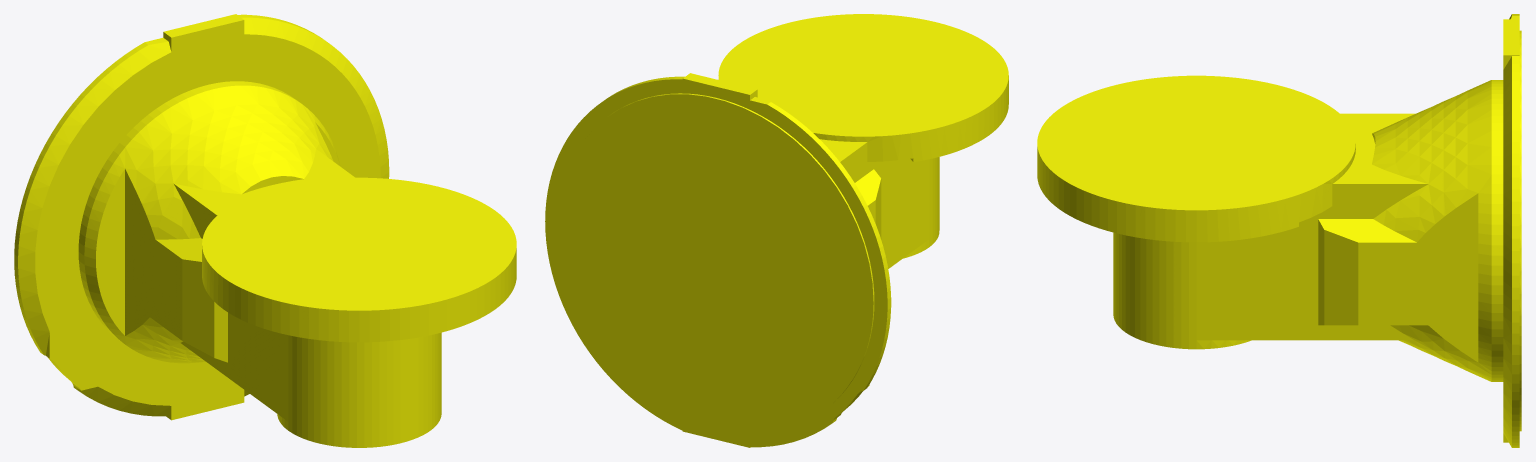
3 renders of one model, left to right at view 1: azimuth 30°, elevation 25°; view 2: azimuth 150°, elevation 25°; view 3: azimuth 270°, elevation 25°, orthographic. The views are drawn at different scales.
Visible parts, largest first — view 1: node; view 2: node; view 3: node.
Boxes of the visible parts, x1,y1,x2,y2 form: node: (14, 14, 516, 447); node: (545, 14, 1008, 447); node: (1037, 14, 1521, 447).
Size of the model in its own units: 662 by 652 by 739.
